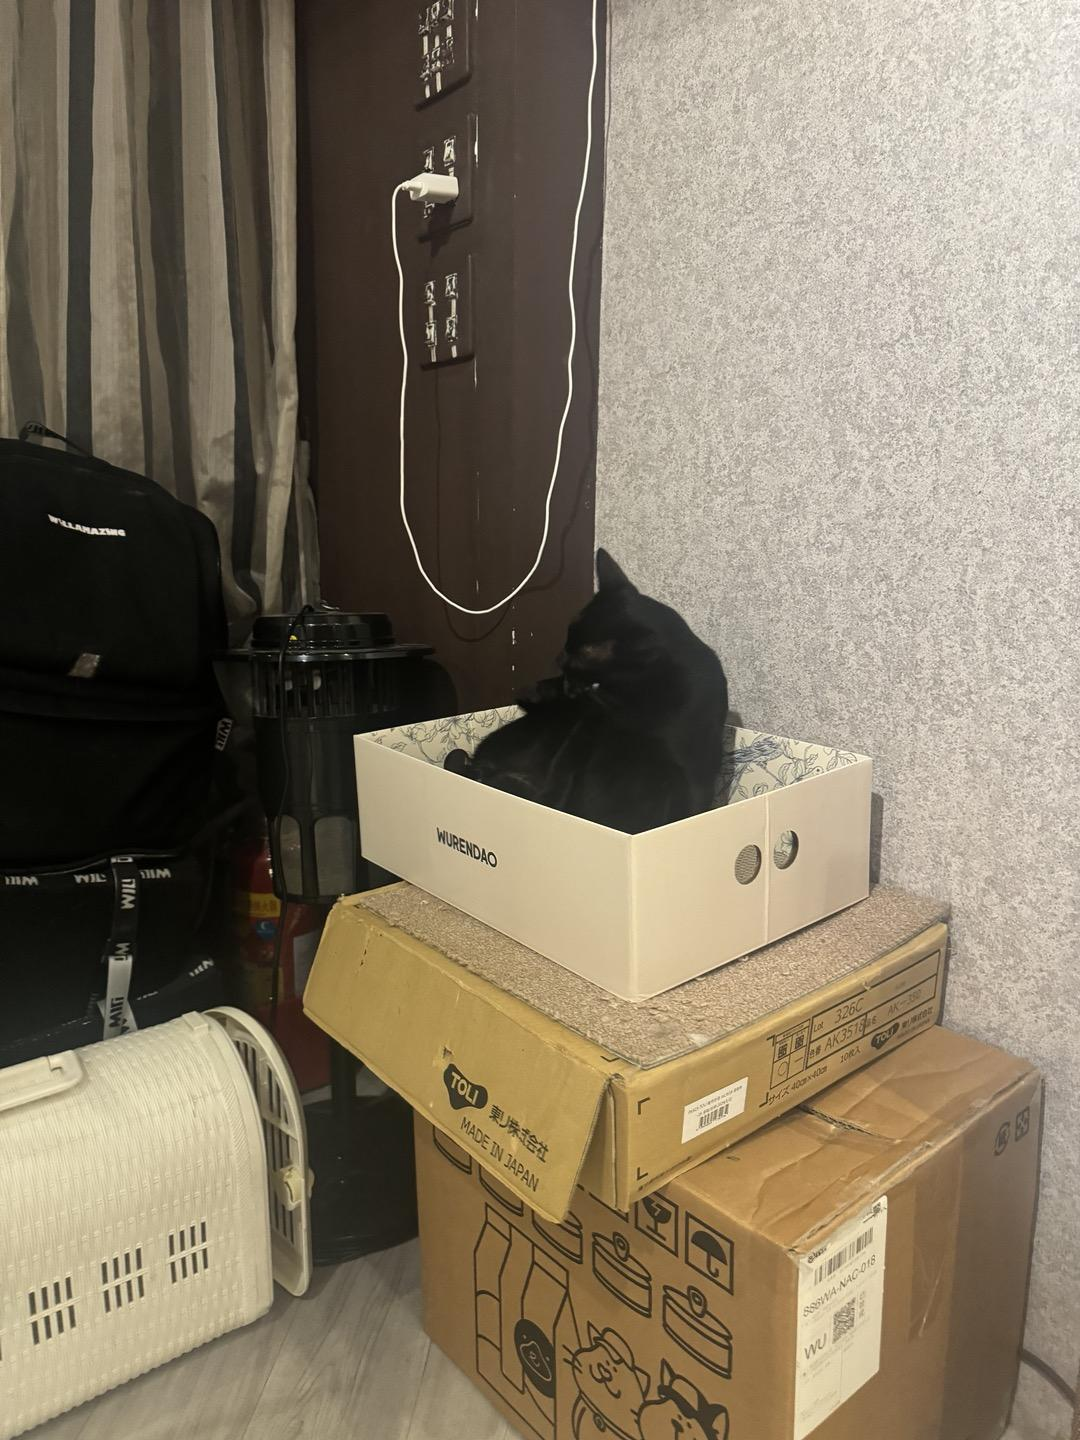cat: (442, 545, 729, 835)
